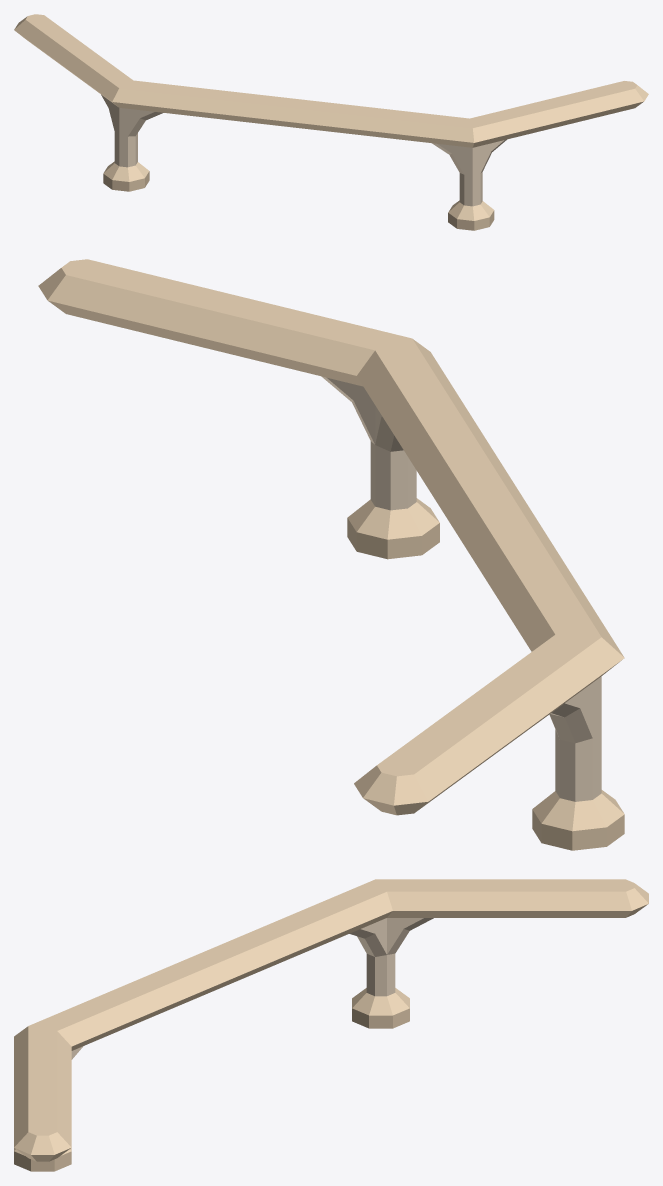
The model's file is Balcony_Railing_Curved_Large.glb.
The picture shows the model from 3 angles, top to bottom: view 1: azimuth 30°, elevation 25°; view 2: azimuth 150°, elevation 25°; view 3: azimuth 270°, elevation 25°; orthographic projection. The views are drawn at different scales.
Visible parts, largest first — view 1: Balcony_Railing_Curved_Large; view 2: Balcony_Railing_Curved_Large; view 3: Balcony_Railing_Curved_Large.
Part boxes in pixels (box(x1,y1,x2,y2)): Balcony_Railing_Curved_Large: box(14, 14, 648, 230); Balcony_Railing_Curved_Large: box(38, 259, 624, 850); Balcony_Railing_Curved_Large: box(14, 879, 648, 1171).
Bounding box in the file's own units: 0.99 × 0.225 × 0.99.
